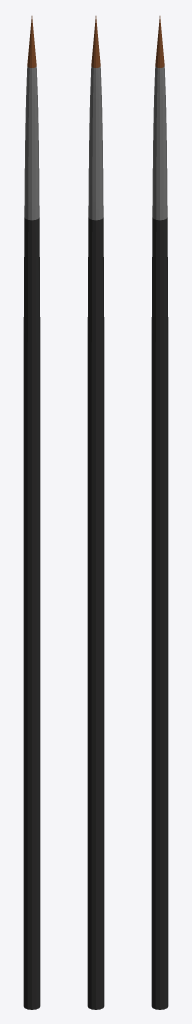
Rendered from small_brush.fbx.
The picture shows the model from 3 angles, left to right: view 1: azimuth 90°, elevation 25°; view 2: azimuth 150°, elevation 25°; view 3: azimuth 270°, elevation 25°; orthographic projection.
Parts seen in each view (by area): view 1: small_brush; view 2: small_brush; view 3: small_brush.
Part boxes in pixels (x1,y1,x2,y2): small_brush: (23, 16, 40, 1009); small_brush: (87, 16, 104, 1009); small_brush: (151, 16, 168, 1009).
Size of the model in its own units: 0.26 by 17 by 0.26.
